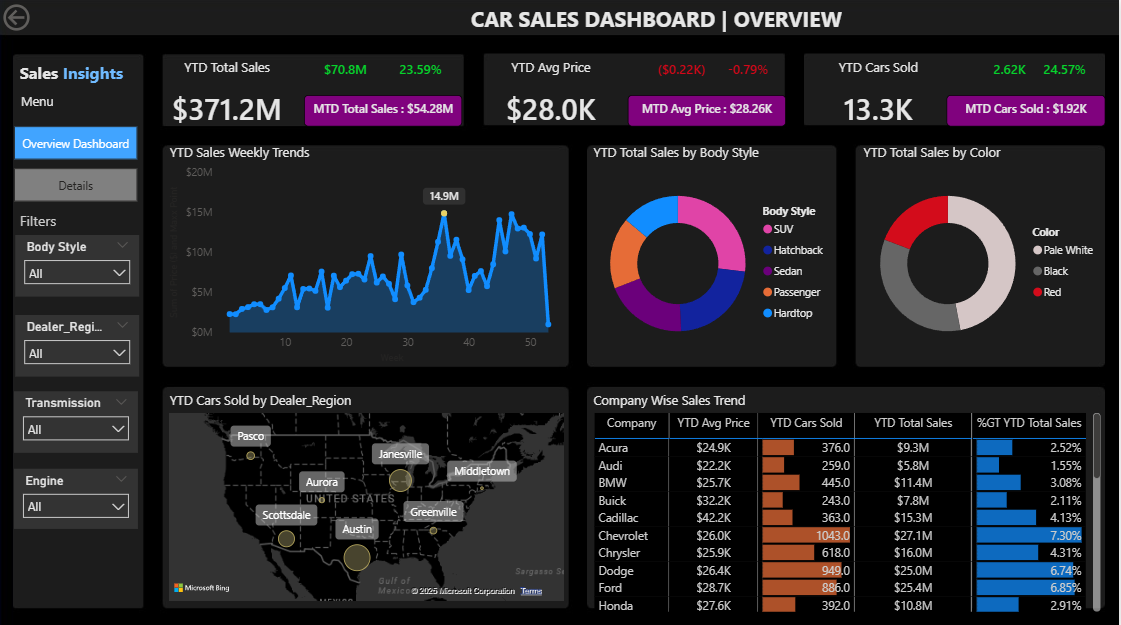

Layout of this report page (visuals, bound fields, positions):
{"tool":"powerbi","page":{"name":"Overview Dashboard","canvas":[1280,720],"ordinal":0},"visuals":[{"type":"card","title":"YTD Total Sales","fields":{"Values":["car_data.YTD Total Sales"]},"box":[172.9,65.9,175.6,97.4],"z":0},{"type":"card","fields":{"Values":["car_data.Sales Differences"]},"box":[334.8,65.9,123.5,24.7],"z":1000},{"type":"card","fields":{"Values":["car_data.YoY Sales Growth"]},"box":[419.9,65.9,123.5,24.7],"z":2000},{"type":"actionButton","box":[0,0,100,40],"z":3000},{"type":"card","fields":{"Values":["car_data.MTD KPI"]},"box":[348.5,108.4,181.1,35.7],"z":4000},{"type":"card","title":"YTD Avg Price","fields":{"Values":["car_data.YTD Avg Price"]},"box":[542.9,65.7,175.7,97.1],"z":5000},{"type":"card","fields":{"Values":["car_data.Avg Price Diff"]},"box":[719,65.9,123.5,24.7],"z":6000},{"type":"card","fields":{"Values":["car_data.YoY Avg Price Growth"]},"box":[794.5,65.9,123.5,24.7],"z":7000},{"type":"card","fields":{"Values":["car_data.MTD Avg Price KPI"]},"box":[719,108.4,181.1,35.7],"z":8000},{"type":"card","title":"YTD Cars Sold","fields":{"Values":["car_data.YTD Cars Sold"]},"box":[917.1,65.7,175.7,97.1],"z":9000},{"type":"card","fields":{"Values":["car_data.Cars Sold Diff"]},"box":[1092.9,65.7,124.3,24.3],"z":10000},{"type":"card","fields":{"Values":["car_data.YoY Car Sold Growth"]},"box":[1155.7,65.7,124.3,24.3],"z":11000},{"type":"card","fields":{"Values":["car_data.MTD Cars Sold KPI"]},"box":[1082.9,108.6,181.4,35.7],"z":12000},{"type":"areaChart","title":"YTD Sales Weekly Trends","fields":{"Category":["Calender Table.Week"],"Y":["Sum(car_data.Price ($))","car_data.Maxx Point"]},"box":[190,162.9,460,257.1],"z":13000},{"type":"donutChart","fields":{"Category":["car_data.Body Style"],"Y":["car_data.YTD Total Sales"]},"box":[674.3,162.9,281.4,257.1],"z":14000},{"type":"donutChart","fields":{"Y":["car_data.YTD Total Sales"],"Category":["car_data.Color"]},"box":[982.9,162.9,281.4,257.1],"z":15000},{"type":"map","fields":{"Size":["car_data.YTD Cars Sold"],"Category":["car_data.Dealer_Region"]},"box":[190,447.1,460,244.3],"z":16000},{"type":"tableEx","title":"Company Wise Sales Trend","fields":{"Values":["car_data.Company","car_data.YTD Avg Price","car_data.YTD Cars Sold","car_data.YTD Total Sales1","car_data.YTD Total Sales"]},"box":[674.3,447.1,590,257.1],"z":17000},{"type":"textbox","box":[454.3,0,594.3,54.3],"z":18000},{"type":"slicer","fields":{"Values":["car_data.Body Style"]},"box":[18.6,268.6,141.4,70],"z":19000},{"type":"slicer","fields":{"Values":["car_data.Dealer_Region"]},"box":[18.6,360,141.4,70],"z":20000},{"type":"slicer","fields":{"Values":["car_data.Transmission"]},"box":[17.1,447.1,141.4,70],"z":21000},{"type":"slicer","fields":{"Values":["car_data.Engine"]},"box":[17.1,535.7,141.4,68.6],"z":22000},{"type":"textbox","box":[18.6,235.7,70,32.9],"z":23000},{"type":"textbox","box":[18.6,65.7,141.4,48.6],"z":24000},{"type":"textbox","box":[20,100,55.7,44.3],"z":24001},{"type":"pageNavigator","box":[17.1,144.3,141.4,87.1],"z":24002}]}

Visuals, with their boxes on the page's 1280x720 design canvas (x1, y1, x2, y2). These are canvas units, not pixel positions in the 1121x625 screenshot, which may show the page scaled, cropped or inside an application window:
"YTD Total Sales" card: 173:66:348:163
card - car_data.Sales Differences: 335:66:458:91
card - car_data.YoY Sales Growth: 420:66:543:91
actionButton: 0:0:100:40
card - car_data.MTD KPI: 348:108:530:144
"YTD Avg Price" card: 543:66:719:163
card - car_data.Avg Price Diff: 719:66:842:91
card - car_data.YoY Avg Price Growth: 794:66:918:91
card - car_data.MTD Avg Price KPI: 719:108:900:144
"YTD Cars Sold" card: 917:66:1093:163
card - car_data.Cars Sold Diff: 1093:66:1217:90
card - car_data.YoY Car Sold Growth: 1156:66:1280:90
card - car_data.MTD Cars Sold KPI: 1083:109:1264:144
"YTD Sales Weekly Trends" areaChart: 190:163:650:420
donutChart - car_data.Body Style x car_data.YTD Total Sales: 674:163:956:420
donutChart - car_data.YTD Total Sales x car_data.Color: 983:163:1264:420
map - car_data.YTD Cars Sold x car_data.Dealer_Region: 190:447:650:691
"Company Wise Sales Trend" tableEx: 674:447:1264:704
textbox: 454:0:1049:54
slicer - car_data.Body Style: 19:269:160:339
slicer - car_data.Dealer_Region: 19:360:160:430
slicer - car_data.Transmission: 17:447:158:517
slicer - car_data.Engine: 17:536:158:604
textbox: 19:236:89:269
textbox: 19:66:160:114
textbox: 20:100:76:144
pageNavigator: 17:144:158:231
